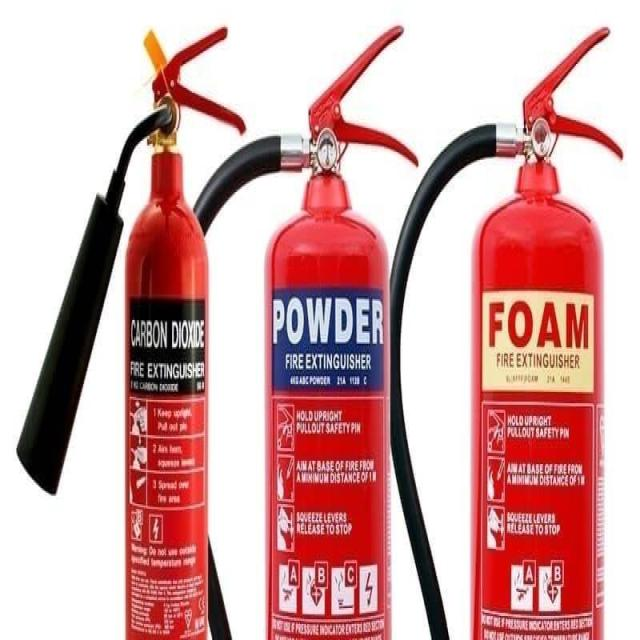fire_extinguisher: (377, 21, 626, 638), (178, 19, 420, 638), (12, 21, 246, 638)
